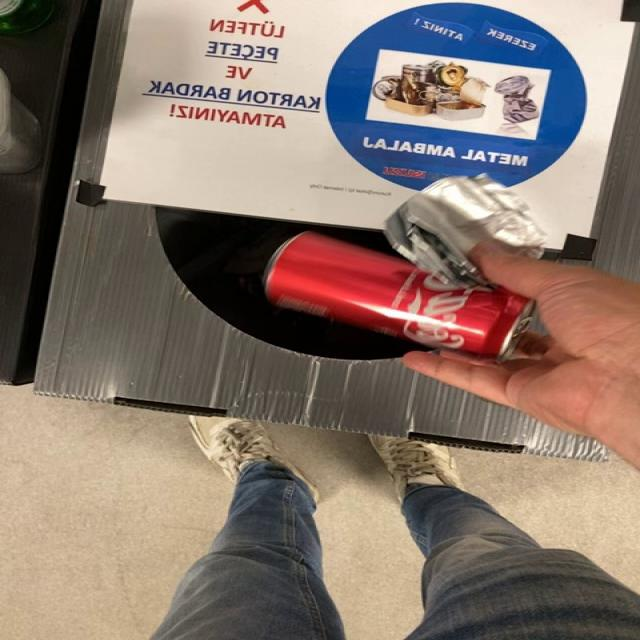bin: (36, 0, 640, 461)
metal: (264, 232, 535, 362)
